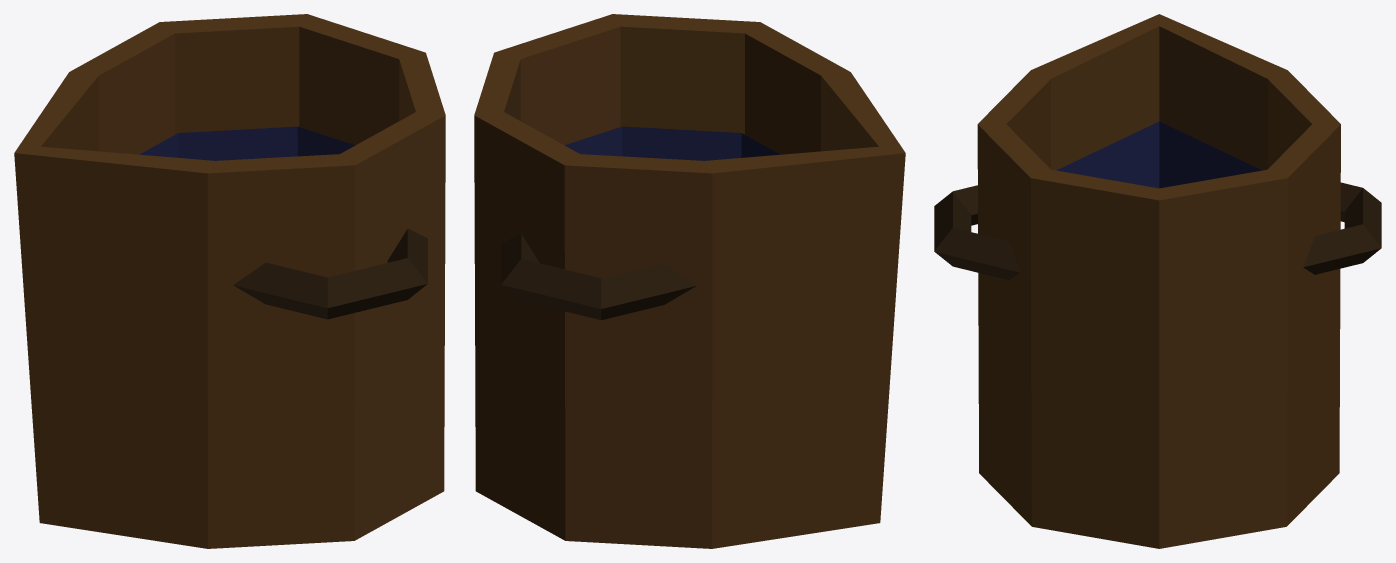
Rendered from WateringCan.glb.
3 views of the same model, side by side, from view 1: azimuth 30°, elevation 25°; view 2: azimuth 150°, elevation 25°; view 3: azimuth 270°, elevation 25° (orthographic). The views are drawn at different scales.
Parts seen in each view (by area): view 1: watering_pot-col; view 2: watering_pot-col; view 3: watering_pot-col.
Part boxes in pixels (x1,y1,x2,y2): watering_pot-col: (14, 14, 445, 548); watering_pot-col: (474, 14, 905, 548); watering_pot-col: (934, 14, 1381, 548).
Bounding box in the file's own units: 0.308 × 0.269 × 0.3125.
